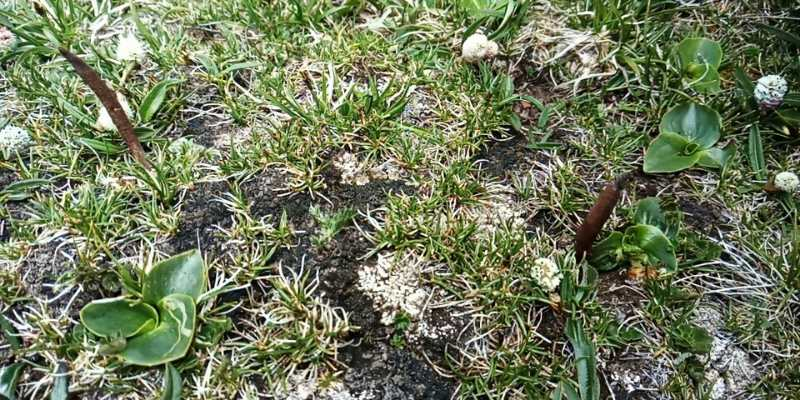Chongcao: (57, 46, 149, 167), (575, 181, 622, 259)
